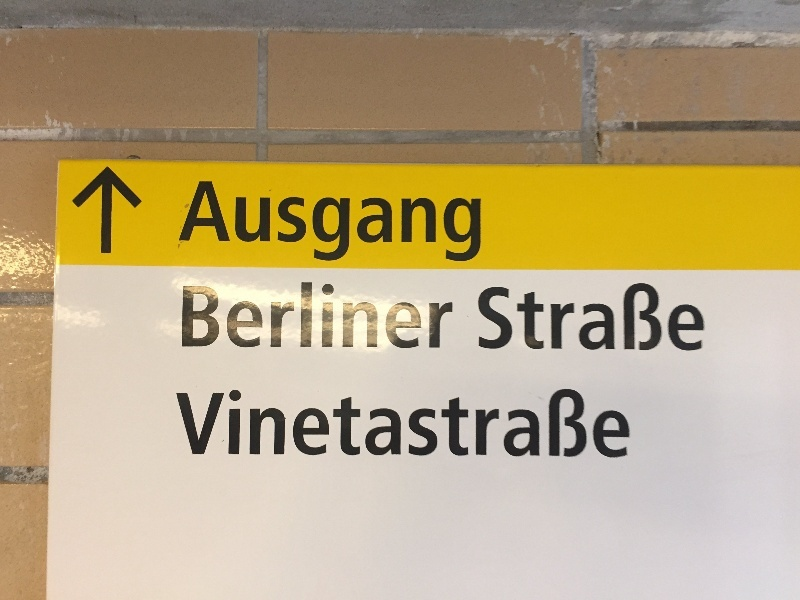text: (209, 181, 224, 263), (225, 181, 240, 263), (241, 181, 256, 263), (257, 181, 272, 263), (273, 181, 288, 263), (289, 181, 304, 263), (305, 181, 320, 263), (321, 181, 336, 263), (337, 181, 352, 263), (353, 181, 368, 263), (369, 181, 384, 263), (385, 181, 400, 263), (401, 181, 416, 263), (417, 181, 432, 263), (433, 181, 448, 263), (449, 181, 464, 263), (465, 181, 480, 263), (481, 277, 496, 354), (497, 277, 512, 354), (513, 277, 528, 354), (529, 277, 544, 354), (545, 277, 560, 354), (561, 277, 576, 354), (577, 277, 592, 354), (593, 277, 608, 354), (609, 277, 624, 354), (625, 277, 640, 354), (641, 277, 656, 354), (657, 277, 672, 354), (673, 277, 688, 354), (689, 277, 704, 354), (177, 386, 192, 460), (193, 386, 208, 460), (209, 386, 224, 460), (225, 386, 240, 460), (241, 386, 256, 460), (257, 386, 272, 460), (273, 386, 288, 460), (289, 386, 304, 460), (305, 386, 320, 460), (321, 386, 336, 460), (337, 386, 352, 460), (353, 386, 368, 460), (369, 386, 384, 460), (385, 386, 400, 460), (401, 386, 416, 460), (417, 386, 432, 460), (433, 386, 448, 460), (449, 386, 464, 460), (465, 386, 480, 460), (481, 386, 496, 460), (497, 386, 512, 460), (513, 386, 528, 460), (529, 386, 544, 460), (545, 386, 560, 460), (561, 386, 576, 460), (577, 386, 592, 460), (593, 386, 608, 460), (609, 386, 624, 460), (193, 279, 208, 351), (209, 279, 224, 351), (225, 279, 240, 351), (241, 279, 256, 351), (257, 279, 272, 351), (273, 279, 288, 351), (289, 279, 304, 351), (305, 279, 320, 351), (321, 279, 336, 351), (337, 279, 352, 351), (353, 279, 368, 351), (369, 279, 384, 351), (385, 279, 400, 351), (401, 279, 416, 351), (417, 279, 432, 351), (433, 279, 448, 351), (199, 181, 208, 263), (183, 279, 192, 351), (625, 386, 633, 460), (449, 279, 455, 351), (481, 181, 484, 263), (174, 386, 176, 460), (479, 277, 480, 354), (705, 277, 706, 354)
